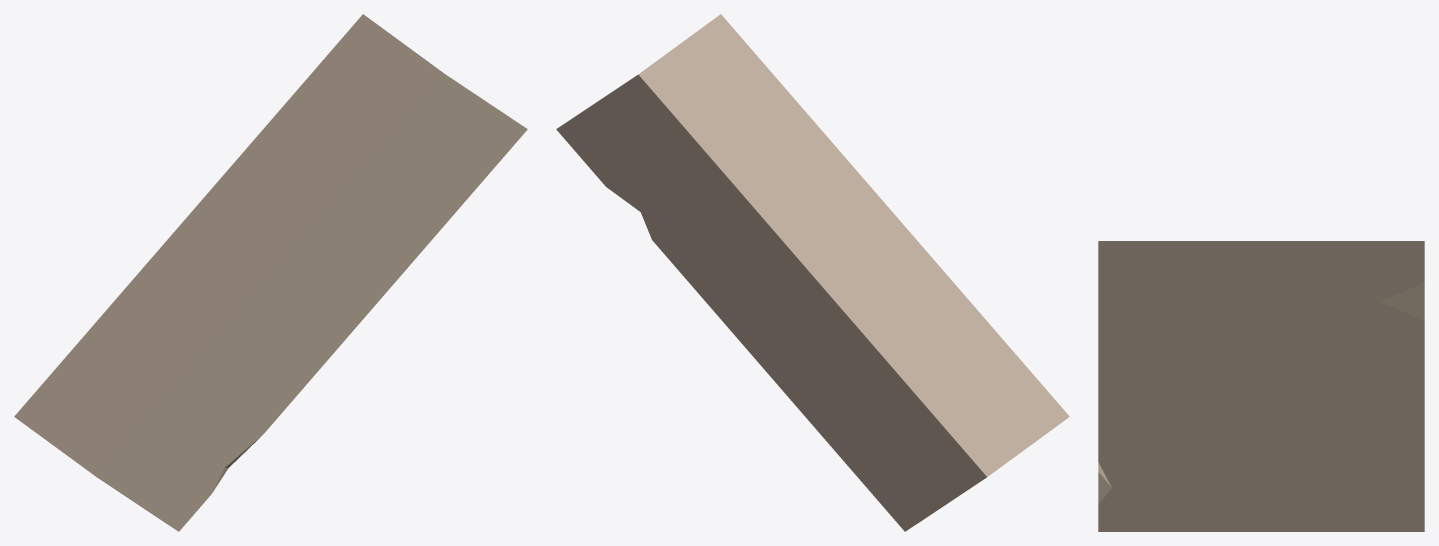
File: Cave_Prop_Support_Corner_Brace_2.glb
The picture shows the model from 3 angles, left to right: view 1: azimuth 30°, elevation 25°; view 2: azimuth 150°, elevation 25°; view 3: azimuth 270°, elevation 25°; orthographic projection. The views are drawn at different scales.
Parts seen in each view (by area): view 1: Cave_Prop_Support_Corner_Brace_2; view 2: Cave_Prop_Support_Corner_Brace_2; view 3: Cave_Prop_Support_Corner_Brace_2.
Part boxes in pixels (x1=…): Cave_Prop_Support_Corner_Brace_2: x1=14, y1=14, x2=527, y2=531; Cave_Prop_Support_Corner_Brace_2: x1=556, y1=14, x2=1069, y2=531; Cave_Prop_Support_Corner_Brace_2: x1=1098, y1=241, x2=1424, y2=531.
Bounding box in the file's own units: 0.6029 × 0.5243 × 0.2.
